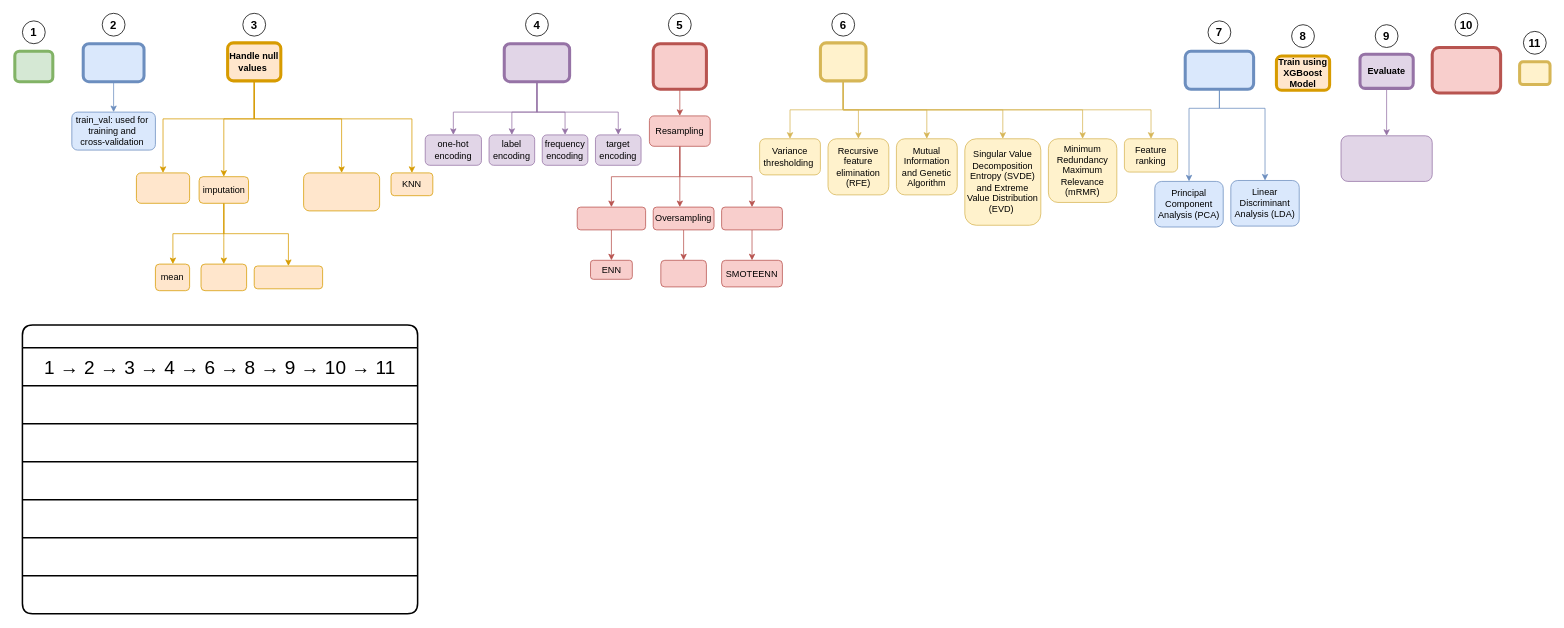
Some shapes in this 1564 by 628 pixel diagram are drawn without their labels. The box of each missing label's shape, as (x1, y1, x2, y2) in pixels:
Apply needed processing to test data: (1430, 46, 1502, 94)
Combination of both: (721, 206, 782, 230)
Cross-validation accuracy after grid search: (1340, 135, 1432, 181)
Dimensionality reduction: (1183, 49, 1255, 90)
drop null values: (136, 172, 190, 203)
Encoding categorical values: (502, 42, 571, 83)
Feature selection: (819, 41, 867, 82)
Handle data imbalance: (651, 42, 708, 90)
Import data: (13, 49, 54, 83)
median: (200, 263, 247, 291)
most_frequent: (253, 265, 323, 289)
prediction (using DecisionTree): (303, 172, 380, 211)
Scenarios: (21, 324, 418, 614)
SMOTE: (660, 260, 706, 287)
Split into train_val and test data: (81, 42, 145, 83)
Test: (1518, 60, 1551, 86)
Undersampling: (576, 206, 646, 230)
